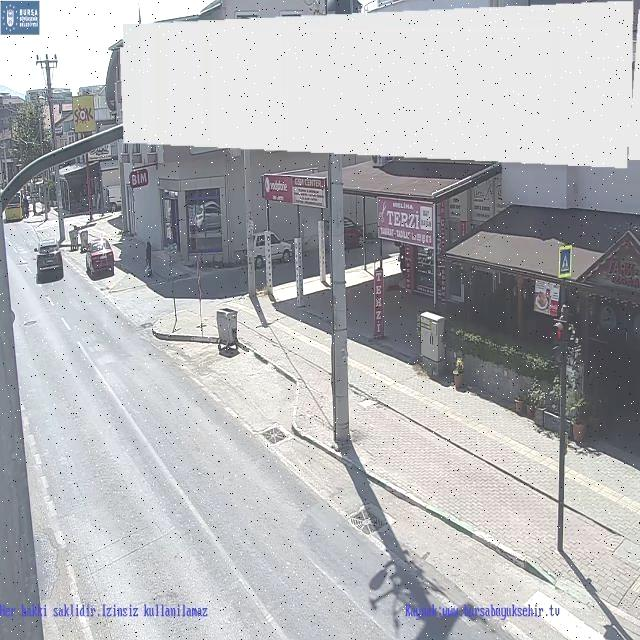Bus: (3, 189, 24, 223)
Car: (248, 231, 294, 267), (325, 218, 366, 253), (34, 240, 64, 278), (86, 238, 115, 275)
Van: (106, 184, 122, 213)
